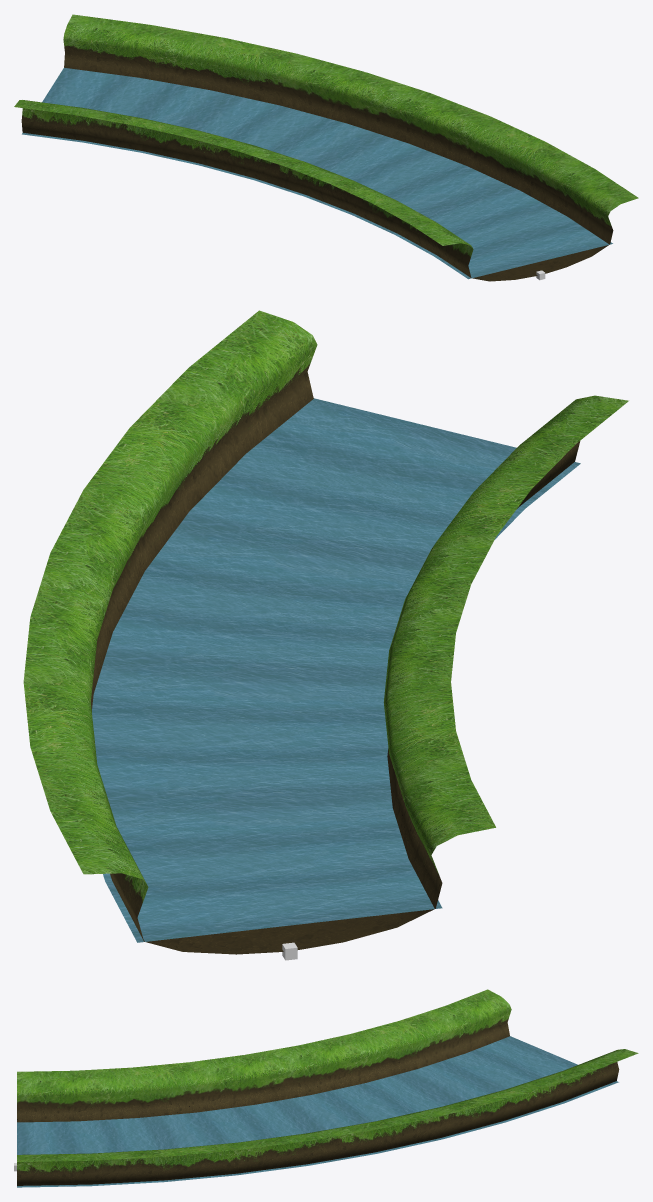
File: roadBend45.L.fbx
3 renders of one model, top to bottom at view 1: azimuth 30°, elevation 25°; view 2: azimuth 150°, elevation 25°; view 3: azimuth 270°, elevation 25°, orthographic. The views are drawn at different scales.
Visible parts, largest first — view 1: MESH roadBend45.L; view 2: MESH roadBend45.L; view 3: MESH roadBend45.L.
Boxes of the visible parts, x1,y1,x2,y2 form: MESH roadBend45.L: [14, 14, 638, 281]; MESH roadBend45.L: [23, 310, 628, 954]; MESH roadBend45.L: [17, 989, 638, 1187].
Size of what is drawn, in the model's own units: 3233 by 463 by 4944.
